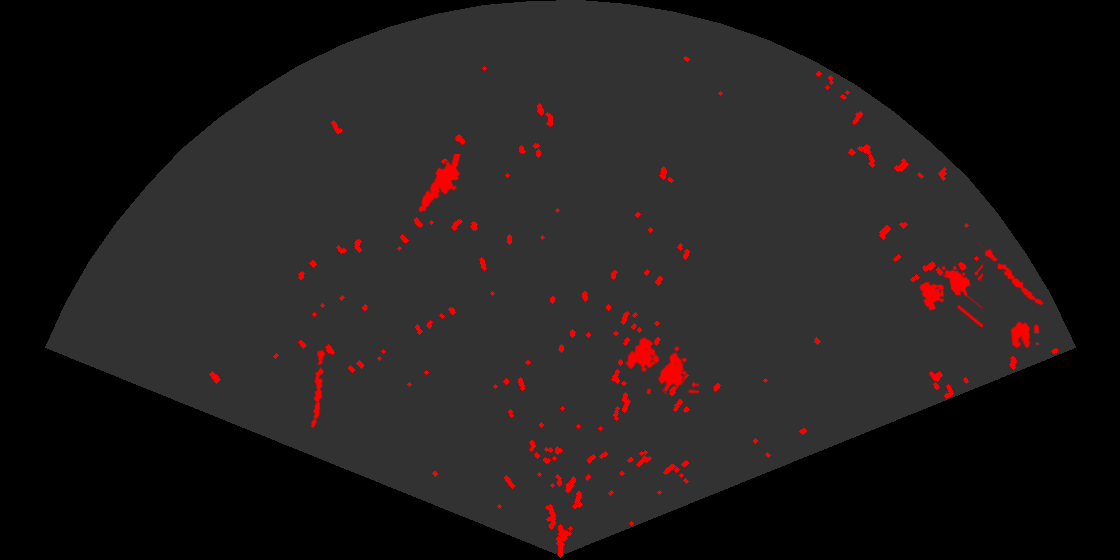ball: (1009, 320, 1041, 350)
cage: (624, 335, 699, 394), (918, 262, 983, 327)
chain: (975, 242, 1045, 307), (309, 348, 327, 429)
frogman: (417, 154, 462, 215)
